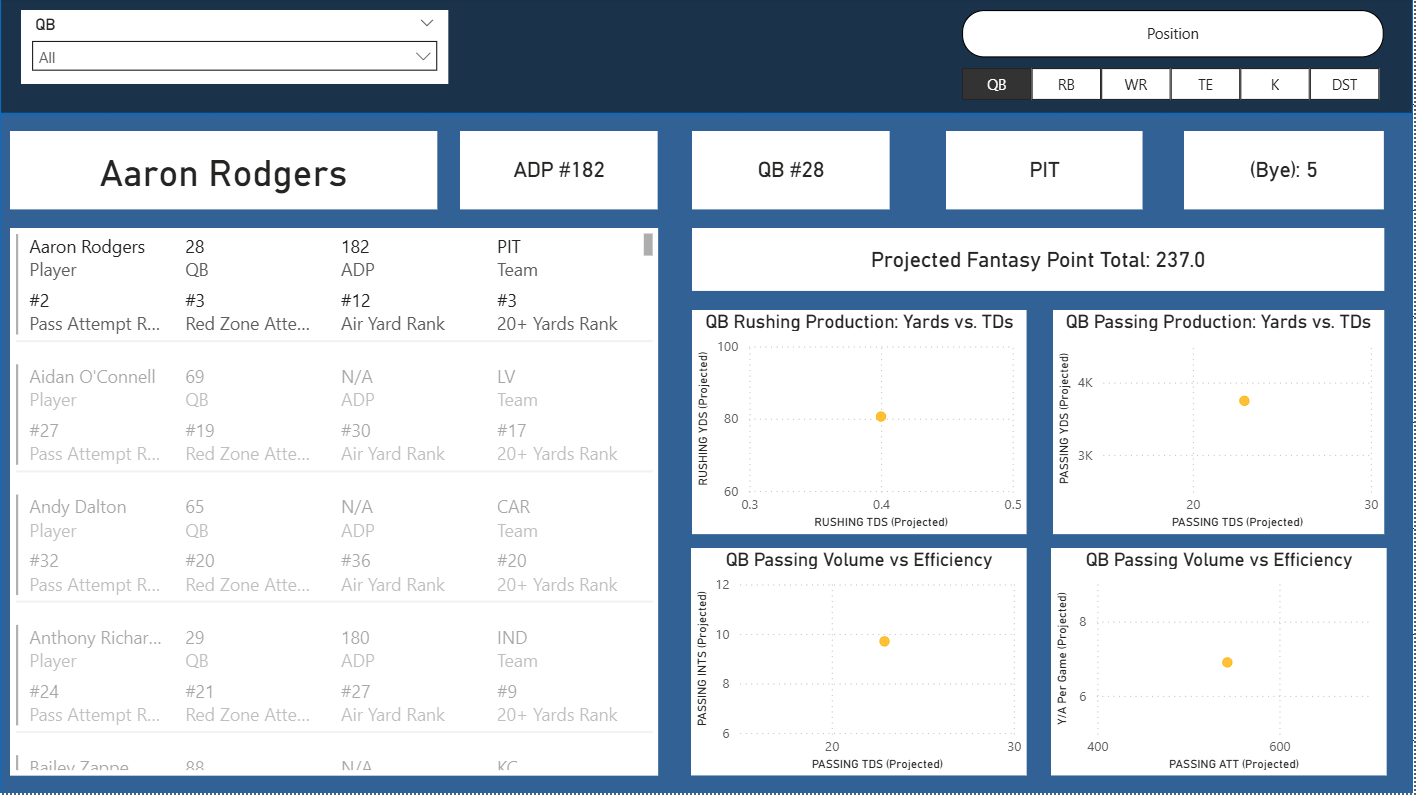

This screenshot's page, from the dashboard's own definition file:
{"tool":"powerbi","page":{"name":"QB","canvas":[1280,720],"ordinal":1},"visuals":[{"type":"group","id":"g1","title":"Group 7","box":[0,0,1279.7,720],"z":0},{"type":"shape","box":[0,0,1279.7,720],"z":0,"group":"g2"},{"type":"shape","box":[141.3,87.8,624,614.9],"z":0,"group":"g12"},{"type":"group","id":"g2","title":"Group 15","box":[0,0,1279.7,720],"z":500,"group":"g1"},{"type":"shape","box":[16.3,5.4,101.4,697.4],"z":1000,"group":"g4"},{"type":"slicer","fields":{"Values":["all_player_data.Player"]},"box":[443.5,21.7,321.8,48],"z":1000,"group":"g6"},{"type":"pageNavigator","box":[26.8,95.1,80.5,594.1],"z":1000,"group":"g5"},{"type":"shape","box":[1039.7,317.9,225,180.2],"z":1000},{"type":"group","id":"g3","title":"Group 13","box":[141.3,0,1053.3,82.4],"z":1500,"group":"g11"},{"type":"group","id":"g4","title":"Group 5","box":[16.3,5.4,101.4,697.4],"z":2000,"group":"g11"},{"type":"shape","box":[790.7,87.8,473.7,215.4],"z":2000,"group":"g12"},{"type":"group","id":"g5","title":"Group 1","box":[26.8,95.1,80.5,594.1],"z":2000,"group":"g7"},{"type":"shape","box":[1039.7,517,225,180.2],"z":2000},{"type":"cardVisual","fields":{"Data":["full_qb_data.QB_Bye_Label"]},"box":[829.5,129.4,99,31.7],"z":3000,"group":"g12"},{"type":"shape","box":[791.5,317.9,225,180.2],"z":3000},{"type":"cardVisual","fields":{"Data":["full_qb_data.Selected_QB"]},"box":[790.7,87.8,473.7,48],"z":4000,"group":"g12"},{"type":"shape","box":[791.5,517.1,225,180.2],"z":4000},{"type":"group","id":"g6","title":"Group 9","box":[141.3,14.5,624,63.4],"z":5000,"group":"g3"},{"type":"textbox","box":[141.3,14.5,283.4,40.8],"z":5000,"group":"g6"},{"type":"shape","box":[960,279.8,141.5,28.1],"z":5000,"group":"g12"},{"type":"scatterChart","title":"QB Pass Production: Yds vs. TDs (Proj)","fields":{"Series":["full_qb_data.Team"],"X":["full_qb_data.PASSING TDS (Projected)"],"Y":["full_qb_data.PASSING YDS (Projected)"],"Size":["Sum(full_qb_data.PASSING ATT (Projected))"]},"box":[791,322,225,175],"z":5000},{"type":"image","box":[937.4,0,81.5,82.4],"z":5001,"group":"g10"},{"type":"image","box":[1030.7,0,86.9,77.9],"z":5003,"group":"g9"},{"type":"textbox","box":[142,46.2,283.4,31.7],"z":6000,"group":"g6"},{"type":"cardVisual","fields":{"Data":["full_qb_data.QB_Team_Label"]},"box":[790.7,129.4,60.1,31.7],"z":6000,"group":"g12"},{"type":"card","fields":{"Values":["full_qb_data.Player_QB__Rank_Label"]},"box":[790,166,209,70.6],"z":6000},{"type":"shape","box":[791.9,146,472.8,31.7],"z":7000,"group":"g12"},{"type":"card","fields":{"Values":["full_qb_data.Player_ADP_Label"]},"box":[1093.1,166,142,70.6],"z":7000},{"type":"image","box":[25.2,5.4,83.7,89.7],"z":8000,"group":"g7"},{"type":"multiRowCard","title":"QBs","fields":{"Values":["full_qb_data.Player","full_qb_data.QB","full_qb_data.Overall","Sum(full_qb_data.MISC FPTS (Projected))","full_qb_data.Rank_ATT_Label","full_qb_data.Rank_RZ_ATT_Label","full_qb_data.Rank_AIR_Label","full_qb_data.Rank_20YDS_Label","full_qb_data.Yards_Per_Attempt","full_qb_data.QB_Air_Gain_Label","full_qb_data.QB_Explosive_Play_Label","full_qb_data.Sack_Rate_Label"]},"box":[150,96,608,600],"z":8000},{"type":"shape","box":[828.2,222.5,142,28],"z":8000,"group":"g12"},{"type":"shape","box":[1092.8,222.5,142,28],"z":9000,"group":"g12"},{"type":"card","fields":{"Values":["full_qb_data.QB_Fantasy_Point_Label"]},"box":[927,225,204,66],"z":9000},{"type":"scatterChart","title":"QB Rush Production: Yds vs. TDs (Proj)","fields":{"Series":["full_qb_data.Team"],"X":["full_qb_data.RUSHING TDS (Projected)"],"Y":["full_qb_data.RUSHING YDS (Projected)"],"Size":["Sum(full_qb_data.RUSHING ATT (Projected))"]},"box":[1039,322,225,175],"z":10000},{"type":"shape","box":[1093.2,9.1,101.4,64.3],"z":11000,"group":"g8"},{"type":"scatterChart","title":"QB Passing Volume vs Efficiency (Proj)","fields":{"Series":["full_qb_data.Team"],"X":["full_qb_data.PASSING ATT (Projected)"],"Y":["full_qb_data.Y/A Per Game (Projected)"],"Size":["Sum(full_qb_data.PASSING TDS (Projected))"]},"box":[791,522,225,175],"z":11000},{"type":"group","id":"g7","title":"Group 4","box":[25.2,5.4,83.7,683.8],"z":11001,"group":"g4"},{"type":"group","id":"g8","title":"Group 10","box":[1093.2,9.1,101.4,64.3],"z":11001,"group":"g9"},{"type":"group","id":"g9","title":"Group 11","box":[1030.7,0,163.9,77.9],"z":11002,"group":"g10"},{"type":"group","id":"g10","title":"Group 12","box":[937.4,0,257.2,82.4],"z":11003,"group":"g3"},{"type":"group","id":"g11","title":"Group 14","box":[16.3,0,1178.3,702.8],"z":11005,"group":"g2"},{"type":"scatterChart","title":"QB Pass Volume vs Efficiency (Proj)","fields":{"Series":["full_qb_data.Team"],"X":["full_qb_data.PASSING TDS (Projected)"],"Y":["full_qb_data.PASSING INTS (Projected)"],"Size":["Sum(full_qb_data.PASSING ATT (Projected))"]},"box":[1039,522,225,175],"z":12000},{"type":"group","id":"g12","title":"Group 2","box":[141.3,87.8,1123.3,614.9],"z":12003,"group":"g1"},{"type":"image","box":[1164.7,2.7,95.1,77.9],"z":13000}]}

Visuals, with their boxes in screenshot pixels (x1, y1, x2, y2), scaled from the page's 1280x720 canvas onto the 1416x797 screenshot:
"Group 7" group: (0,0,1415,796)
shape: (0,0,1415,796)
shape: (156,97,847,778)
"Group 15" group: (0,0,1415,796)
shape: (18,6,130,778)
slicer - all_player_data.Player: (491,24,847,77)
pageNavigator: (30,105,119,763)
shape: (1150,352,1399,551)
"Group 13" group: (156,0,1322,91)
"Group 5" group: (18,6,130,778)
shape: (875,97,1399,336)
"Group 1" group: (30,105,119,763)
shape: (1150,572,1399,772)
cardVisual - full_qb_data.QB_Bye_Label: (918,143,1027,178)
shape: (876,352,1125,551)
cardVisual - full_qb_data.Selected_QB: (875,97,1399,150)
shape: (876,572,1125,772)
"Group 9" group: (156,16,847,86)
textbox: (156,16,470,61)
shape: (1062,310,1219,341)
"QB Pass Production: Yds vs. TDs (Proj)" scatterChart: (875,356,1124,550)
image: (1037,0,1127,91)
image: (1140,0,1236,86)
textbox: (157,51,471,86)
cardVisual - full_qb_data.QB_Team_Label: (875,143,941,178)
card - full_qb_data.Player_QB__Rank_Label: (874,184,1105,262)
shape: (876,162,1399,197)
card - full_qb_data.Player_ADP_Label: (1209,184,1366,262)
image: (28,6,120,105)
"QBs" multiRowCard: (166,106,839,770)
shape: (916,246,1073,277)
shape: (1209,246,1366,277)
card - full_qb_data.QB_Fantasy_Point_Label: (1025,249,1251,322)
"QB Rush Production: Yds vs. TDs (Proj)" scatterChart: (1149,356,1398,550)
shape: (1209,10,1322,81)
"QB Passing Volume vs Efficiency (Proj)" scatterChart: (875,578,1124,772)
"Group 4" group: (28,6,120,763)
"Group 10" group: (1209,10,1322,81)
"Group 11" group: (1140,0,1322,86)
"Group 12" group: (1037,0,1322,91)
"Group 14" group: (18,0,1322,778)
"QB Pass Volume vs Efficiency (Proj)" scatterChart: (1149,578,1398,772)
"Group 2" group: (156,97,1399,778)
image: (1288,3,1394,89)
